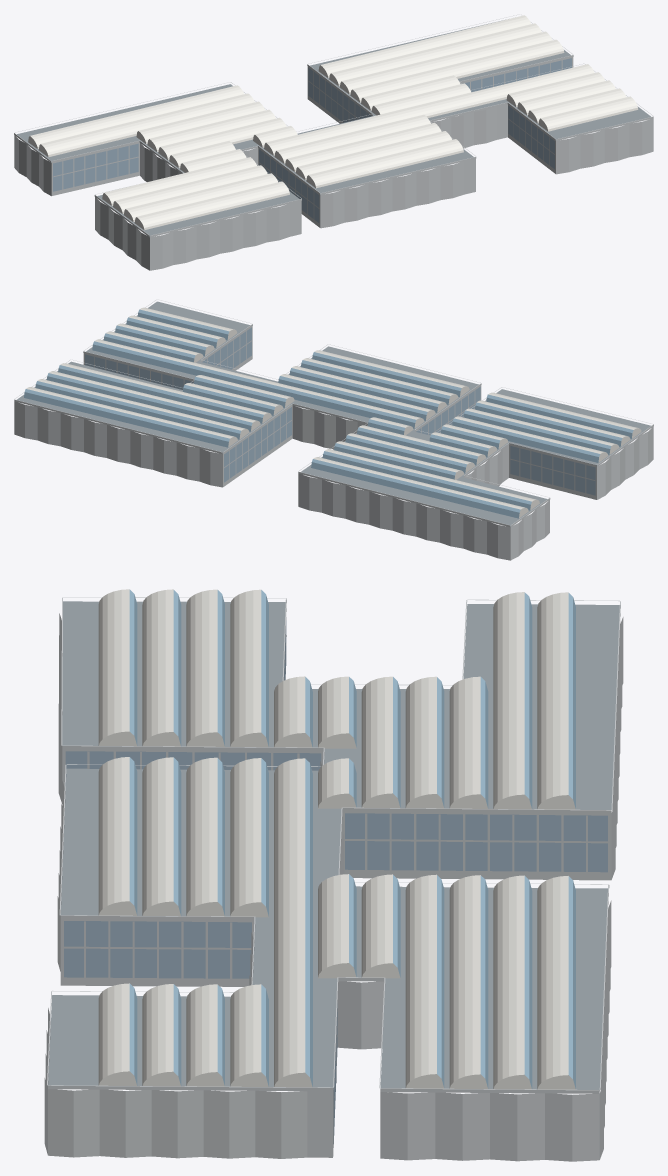
File: ral-ncma-west-building.glb
The picture shows the model from 3 angles, top to bottom: view 1: azimuth 30°, elevation 25°; view 2: azimuth 150°, elevation 25°; view 3: azimuth 270°, elevation 25°; orthographic projection. The views are drawn at different scales.
Parts seen in each view (by area): view 1: North Carolina Museum of Art, West Building; view 2: North Carolina Museum of Art, West Building; view 3: North Carolina Museum of Art, West Building.
Part boxes in pixels (x1=…): North Carolina Museum of Art, West Building: x1=14, y1=14, x2=653, y2=270; North Carolina Museum of Art, West Building: x1=14, y1=299, x2=653, y2=560; North Carolina Museum of Art, West Building: x1=44, y1=589, x2=623, y2=1161.
Bounding box in the file's own units: 139 × 10.7 × 68.58.
